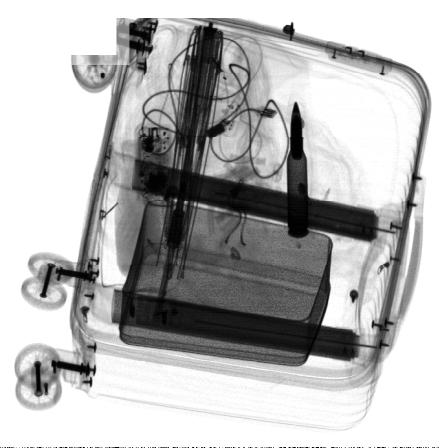Bullet: (287, 99, 309, 239)
